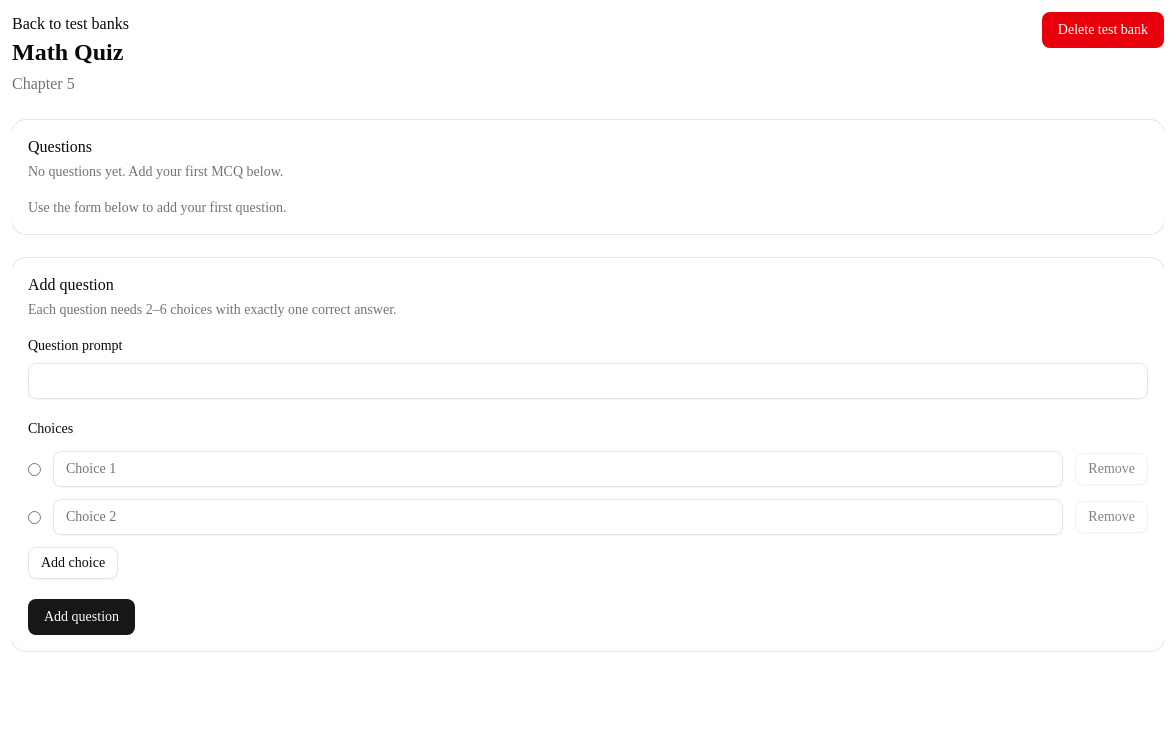
AC-005: question validation › shows validation error when no correct choice is selected
Type "What is 2 + 2?" into the field labelled "Question prompt" at (588, 381), box top-left (28, 363), bottom-right (1148, 399)
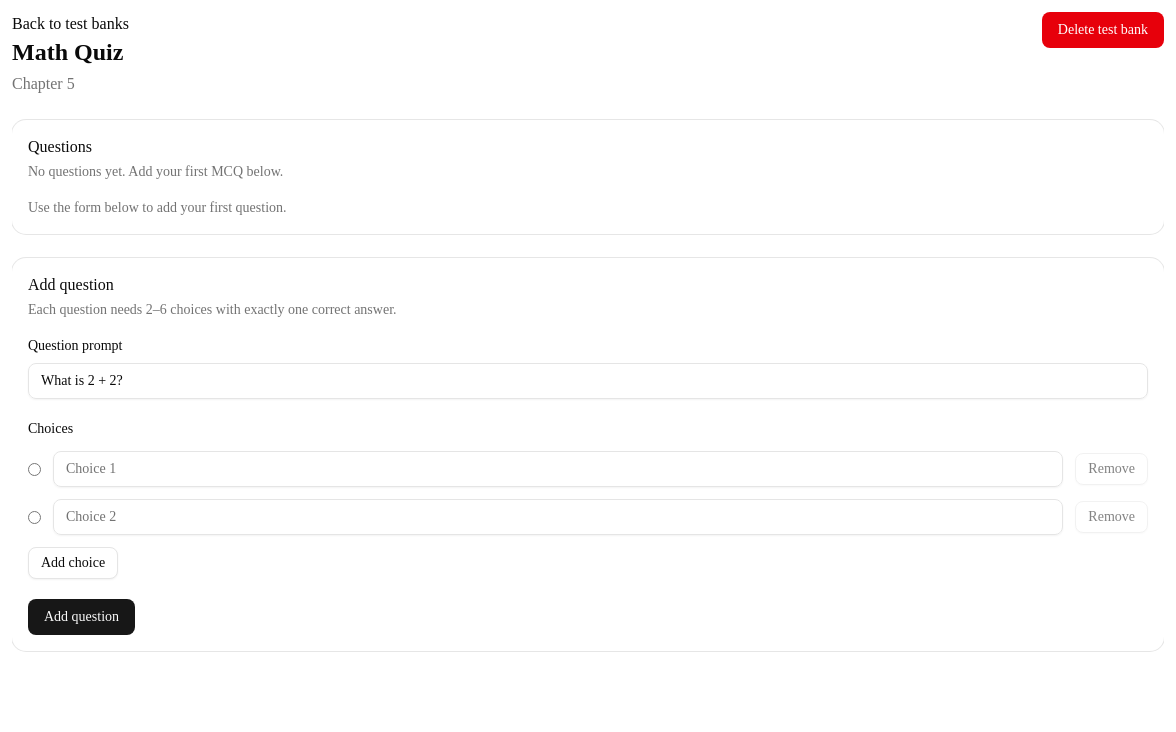
Type "3" into the field with placeholder "Choice 1" at (558, 469), box top-left (53, 451), bottom-right (1063, 487)
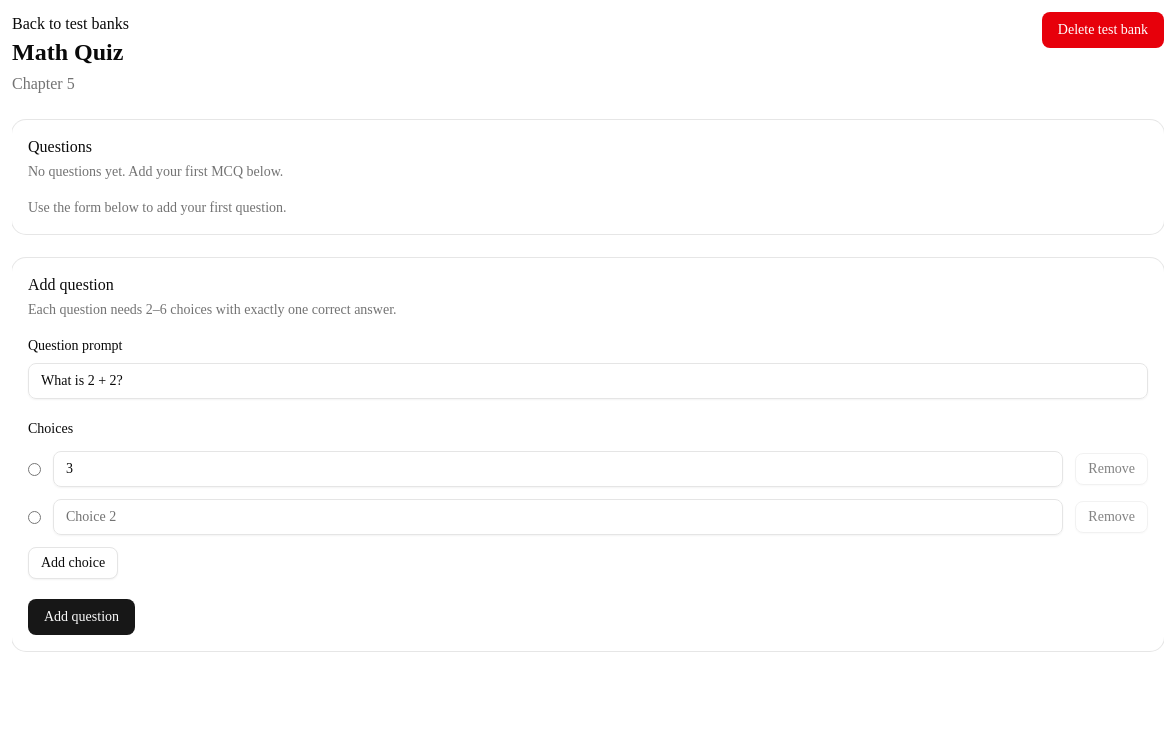
Type "5" into the field with placeholder "Choice 2" at (558, 517), box top-left (53, 499), bottom-right (1063, 535)
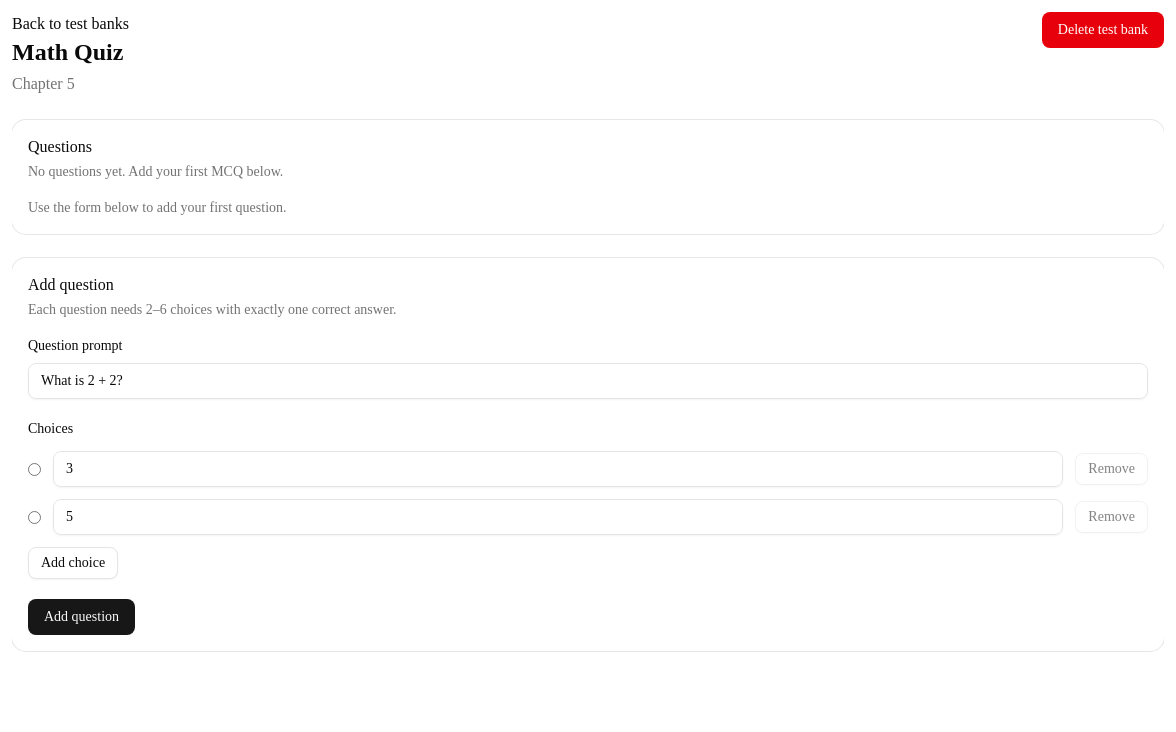
Submit the form "Add question", box top-left (28, 336), bottom-right (1148, 635)
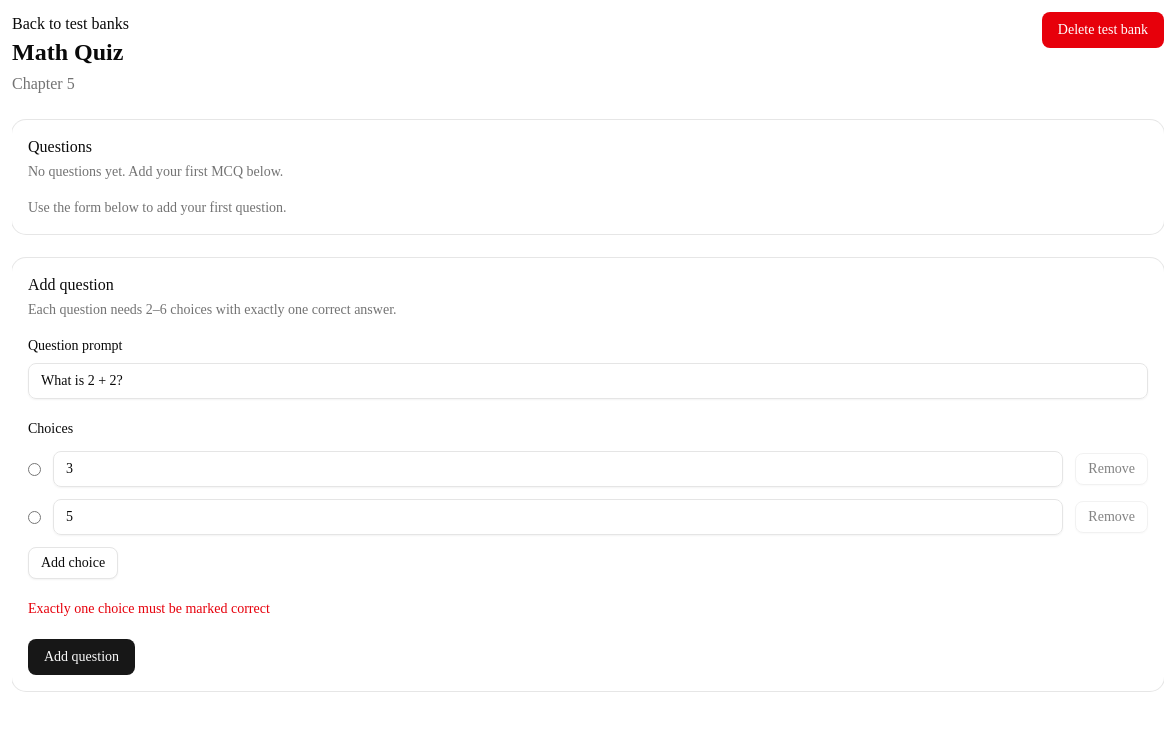
Now the text "Exactly one choice must be marked correct" is shown, box top-left (28, 601), bottom-right (270, 616)
